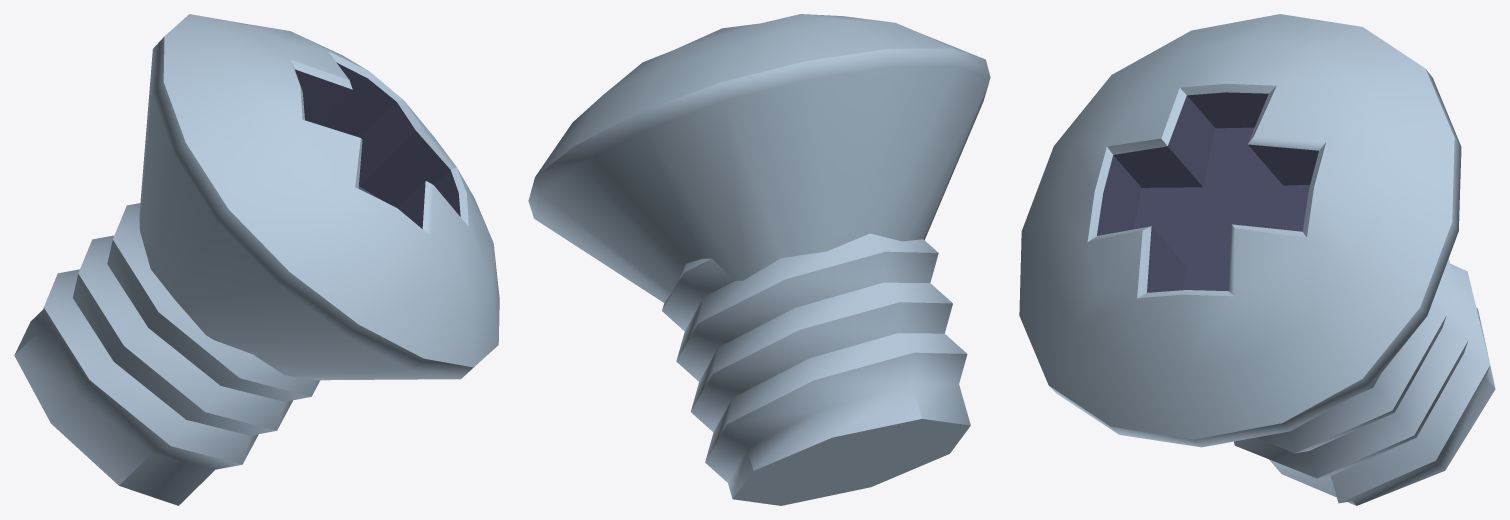
3 renders of one model, left to right at view 1: azimuth 30°, elevation 25°; view 2: azimuth 150°, elevation 25°; view 3: azimuth 270°, elevation 25°, orthographic. The views are drawn at different scales.
Parts seen in each view (by area): view 1: model_0.072; view 2: model_0.072; view 3: model_0.072.
Boxes of the visible parts, x1=… form: model_0.072: x1=14, y1=14, x2=499, y2=505; model_0.072: x1=528, y1=14, x2=990, y2=505; model_0.072: x1=1019, y1=14, x2=1495, y2=505.
Bounding box in the file's own units: 3.52 × 3.6 × 3.34.
